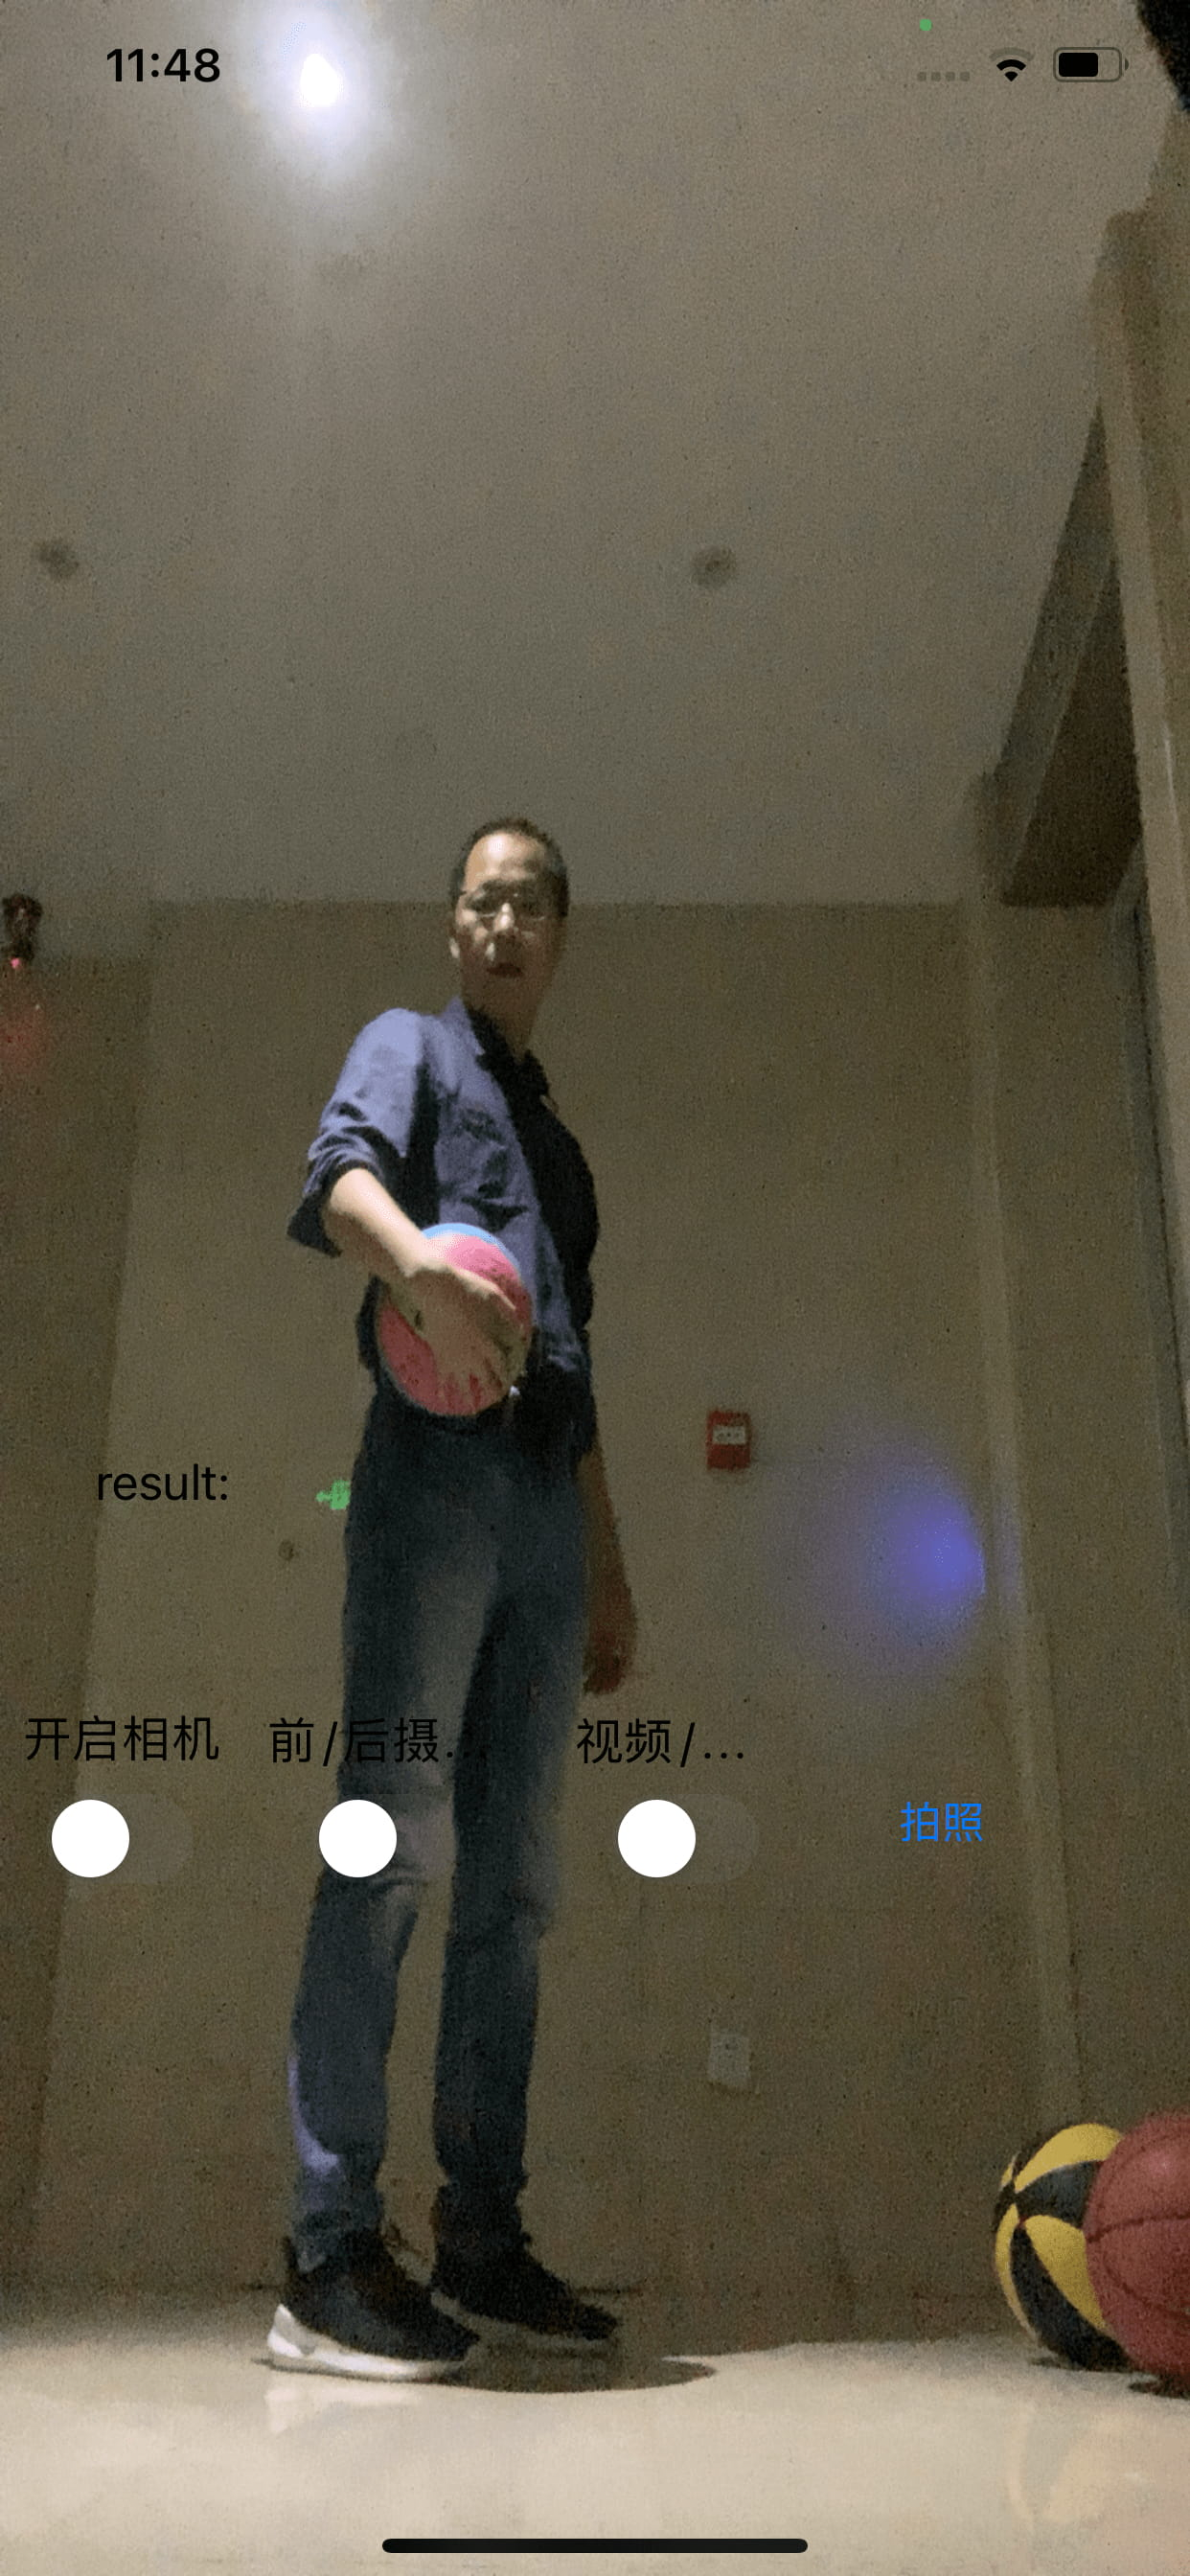ball: (994, 2119, 1131, 2366), (376, 1226, 537, 1424), (1085, 2118, 1190, 2382)
